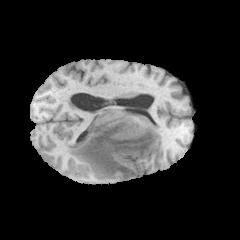glioma: (64, 96, 161, 181)
